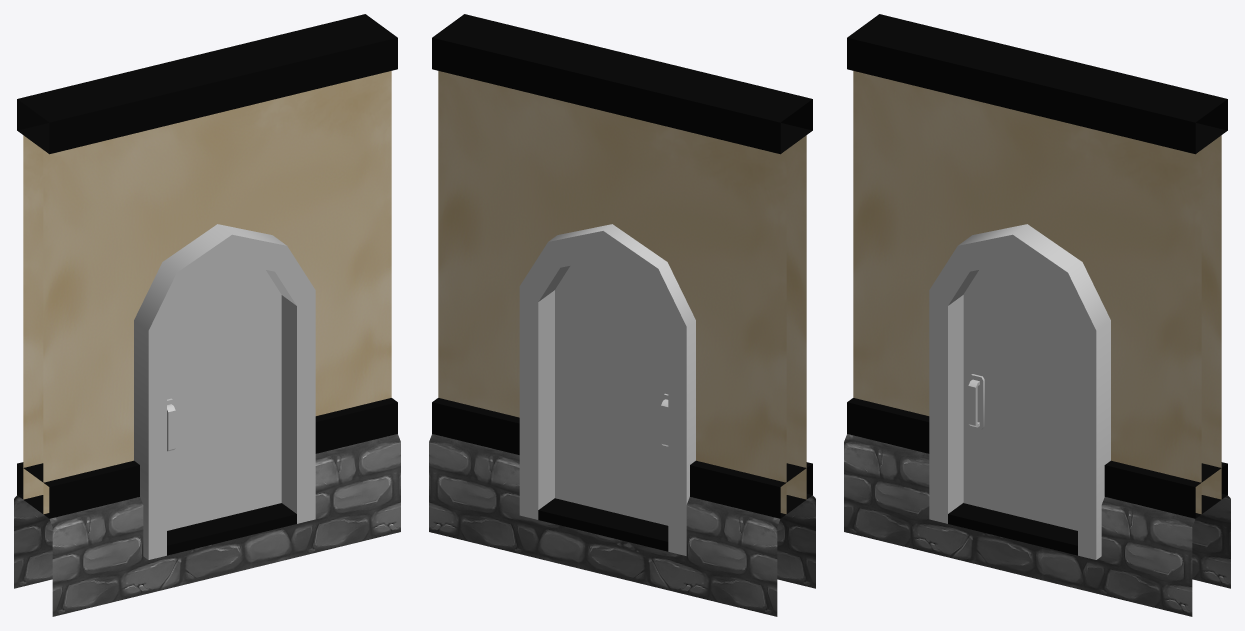
The model's file is MOD_gateway_rock_wall.fbx.
The picture shows the model from 3 angles, left to right: view 1: azimuth 30°, elevation 25°; view 2: azimuth 150°, elevation 25°; view 3: azimuth 330°, elevation 25°; orthographic projection.
Parts seen in each view (by area): view 1: rock_wall, door; view 2: rock_wall, door; view 3: rock_wall, door.
Boxes of the visible parts, bbox=[...] form: rock_wall: bbox=[14, 14, 400, 616]; door: bbox=[167, 263, 281, 530]; rock_wall: bbox=[429, 14, 815, 616]; door: bbox=[555, 259, 668, 525]; rock_wall: bbox=[844, 14, 1230, 616]; door: bbox=[963, 263, 1077, 530].
Size of the model in its own units: 118 by 25.76 by 159.
